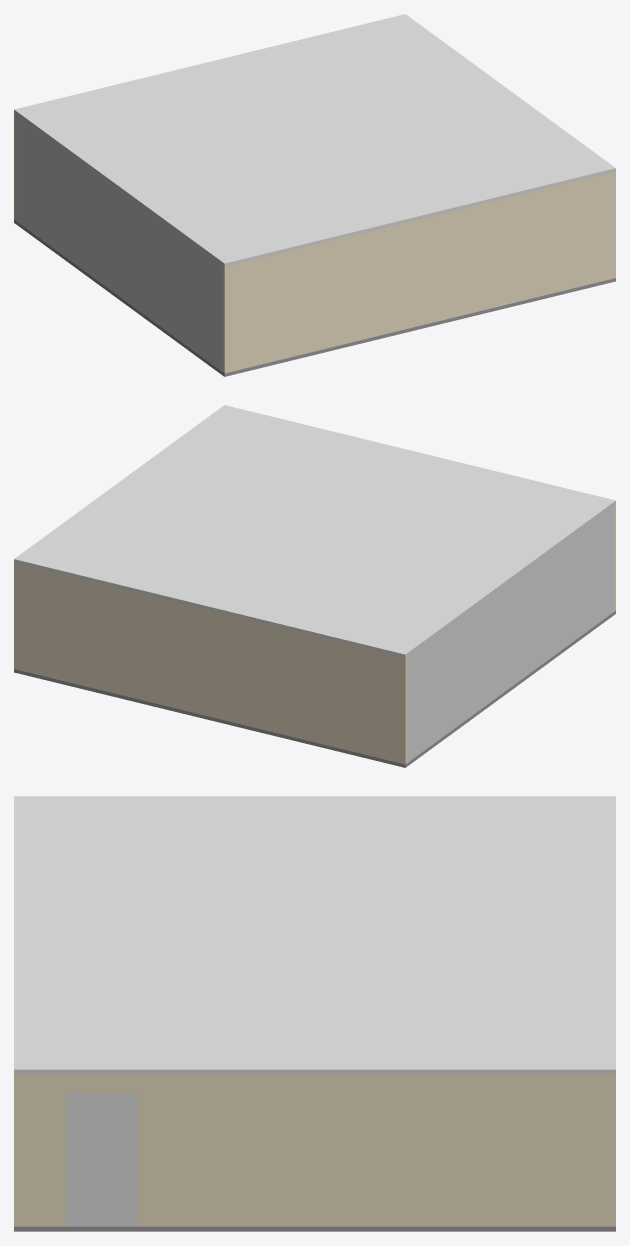
Rendered from final_house_layout.fbx.
The picture shows the model from 3 angles, top to bottom: view 1: azimuth 30°, elevation 25°; view 2: azimuth 150°, elevation 25°; view 3: azimuth 270°, elevation 25°; orthographic projection. The views are drawn at different scales.
Visible parts, largest first — view 1: Cube.027, Cube.002, Cube.007, Cube.028; view 2: Cube.027, Cube.001, Cube.007, Cube.028; view 3: Cube.027, Cube.004, Cube.028, Cube.005, Cube.001, Cube.002.
Boxes of the visible parts, x1,y1,x2,y2 form: Cube.027: (14, 14, 615, 266); Cube.002: (222, 171, 615, 373); Cube.007: (16, 115, 221, 371); Cube.028: (14, 219, 615, 376); Cube.027: (14, 405, 615, 657); Cube.001: (14, 562, 407, 764); Cube.007: (408, 506, 613, 762); Cube.028: (14, 610, 615, 767); Cube.027: (14, 796, 615, 1074); Cube.004: (138, 1074, 608, 1226); Cube.028: (14, 1093, 615, 1231); Cube.005: (21, 1074, 137, 1226); Cube.001: (609, 1074, 615, 1226); Cube.002: (14, 1074, 20, 1226).
Bounding box in the file's own units: 2079 × 575 × 1936.
